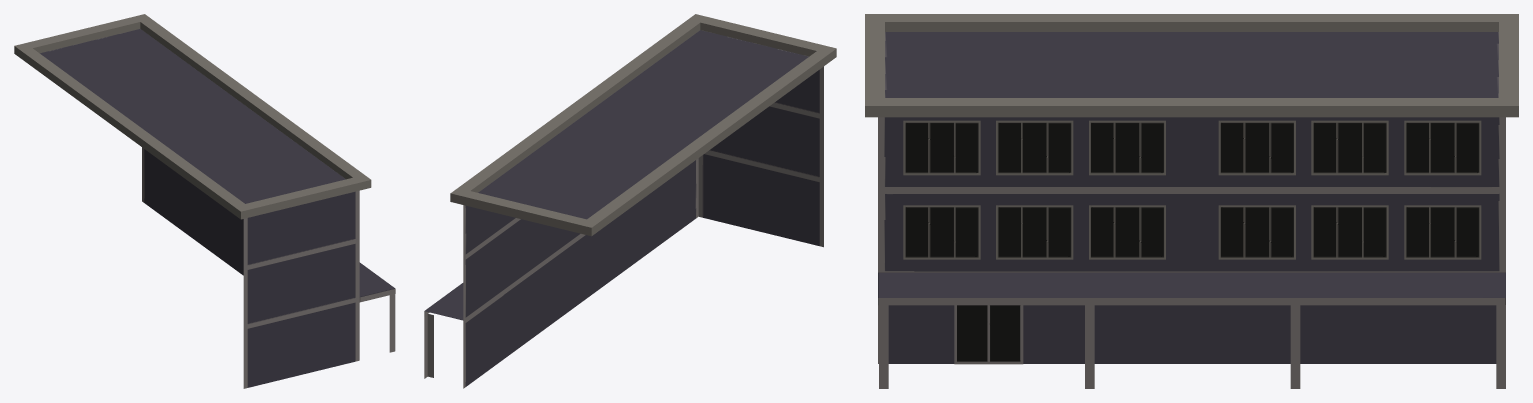
File: Building_2.fbx
3 views of the same model, side by side, from view 1: azimuth 30°, elevation 25°; view 2: azimuth 150°, elevation 25°; view 3: azimuth 270°, elevation 25° (orthographic). The views are drawn at different scales.
Visible parts, largest first — view 1: Cube.032; view 2: Cube.032; view 3: Cube.032.
Part boxes in pixels (box(x1,y1,x2,y2)): Cube.032: box(14, 14, 395, 388); Cube.032: box(424, 14, 836, 388); Cube.032: box(865, 14, 1518, 388).
Size of the model in its own units: 550 by 601 by 1354.
Materials: 6 (6 with a texture image).
